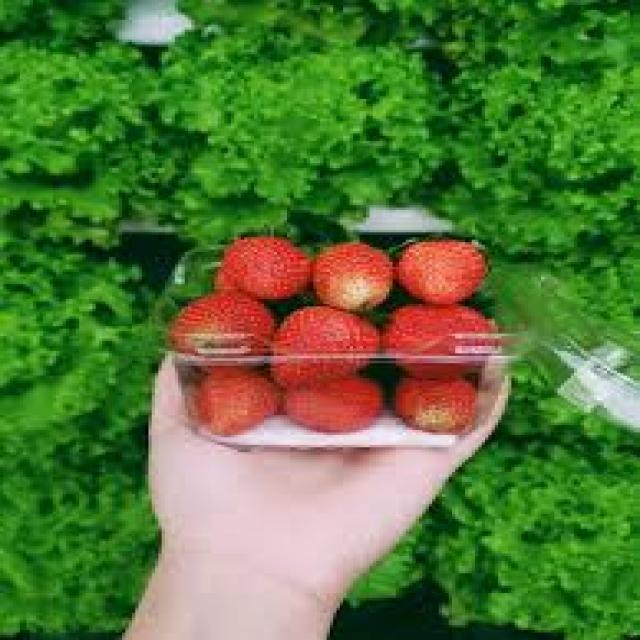Fruta sana: (374, 291, 504, 369), (266, 364, 386, 436), (278, 308, 375, 386), (186, 371, 285, 444), (400, 232, 492, 306), (304, 244, 398, 312), (396, 372, 481, 434), (179, 288, 262, 350), (234, 240, 304, 300)
